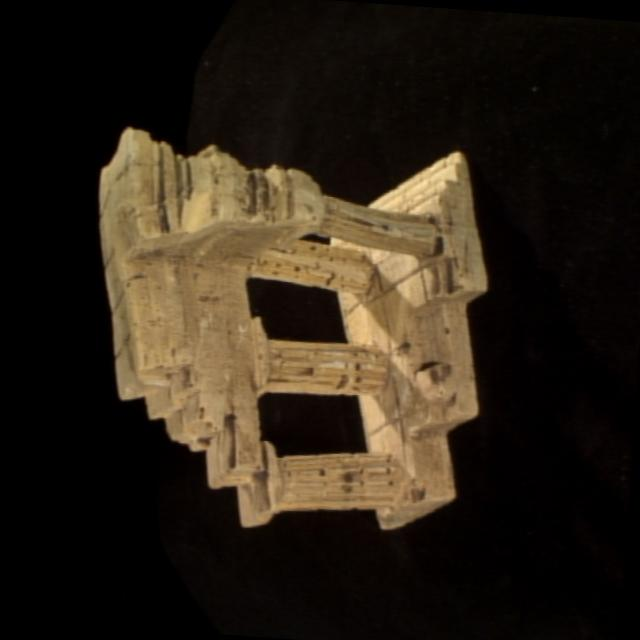Instance-Segmentation: (100, 128, 487, 528)
